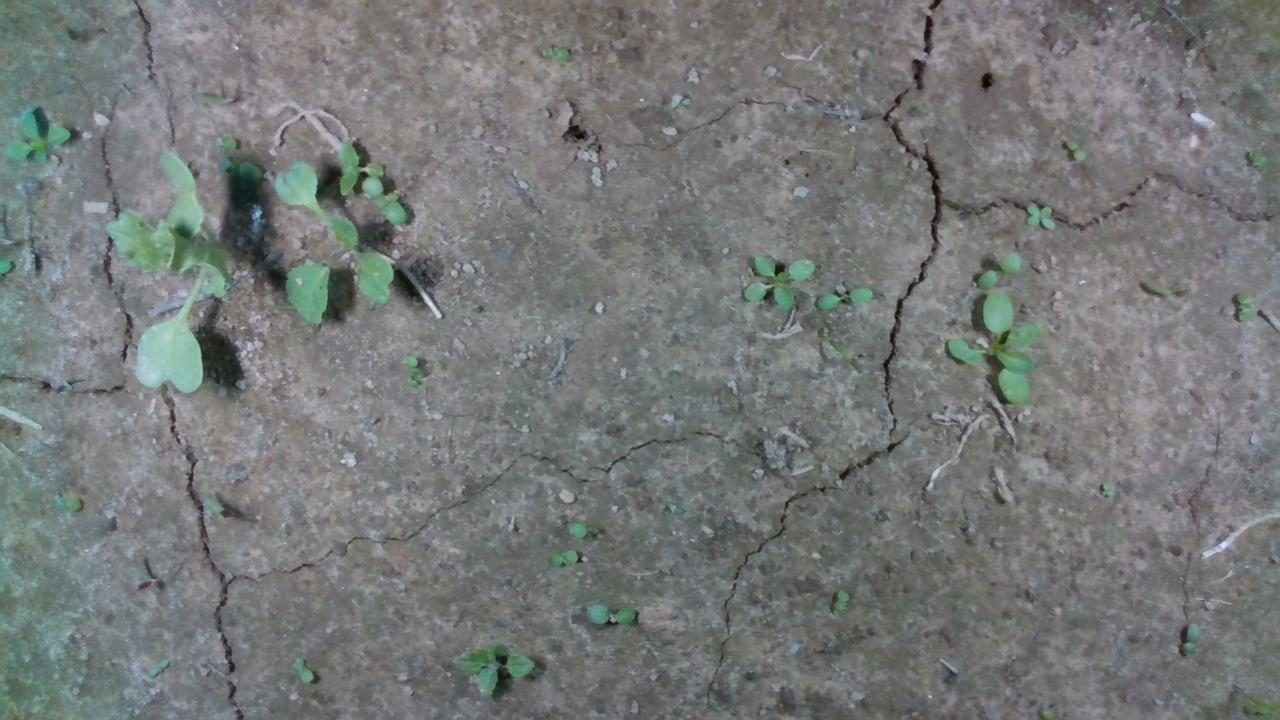weed: (817, 275, 885, 324), (585, 598, 644, 631), (1026, 197, 1060, 238), (44, 487, 89, 517), (398, 352, 426, 396), (1137, 271, 1177, 301), (287, 654, 321, 685), (547, 547, 587, 572), (828, 586, 858, 618), (533, 38, 570, 63), (1064, 137, 1092, 163)
